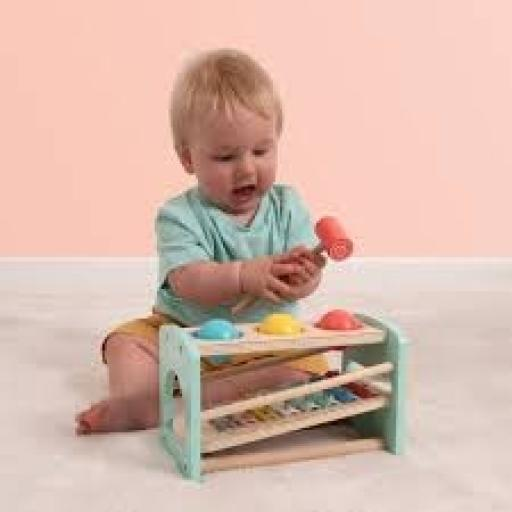baby: (76, 51, 325, 434)
